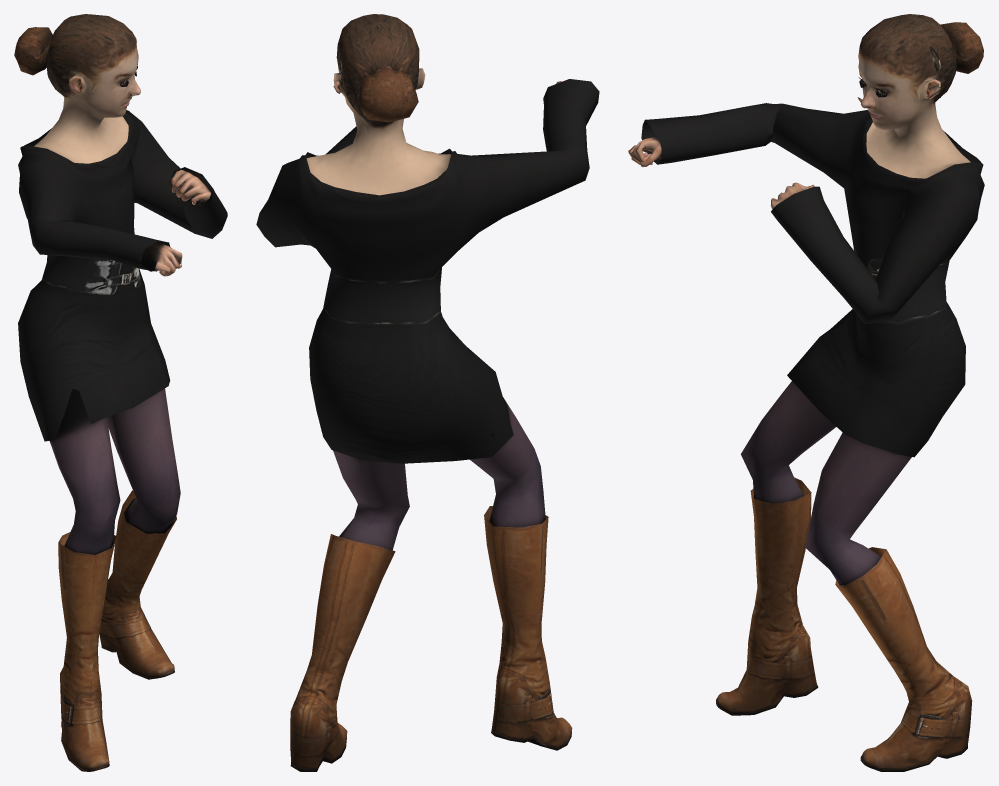
File: Ana_Model_000031.obj
The picture shows the model from 3 angles, left to right: view 1: azimuth 30°, elevation 25°; view 2: azimuth 150°, elevation 25°; view 3: azimuth 270°, elevation 25°; orthographic projection. The views are drawn at different scales.
Visible parts, largest first — view 1: Ana_Cube.004; view 2: Ana_Cube.004; view 3: Ana_Cube.004.
Boxes of the visible parts, x1,y1,x2,y2 form: Ana_Cube.004: (14,14,227,771); Ana_Cube.004: (256,14,599,771); Ana_Cube.004: (628,14,984,771).
Size of the model in its own units: 0.6921 by 1.86 by 0.8219.
1 material, 1 textured.
